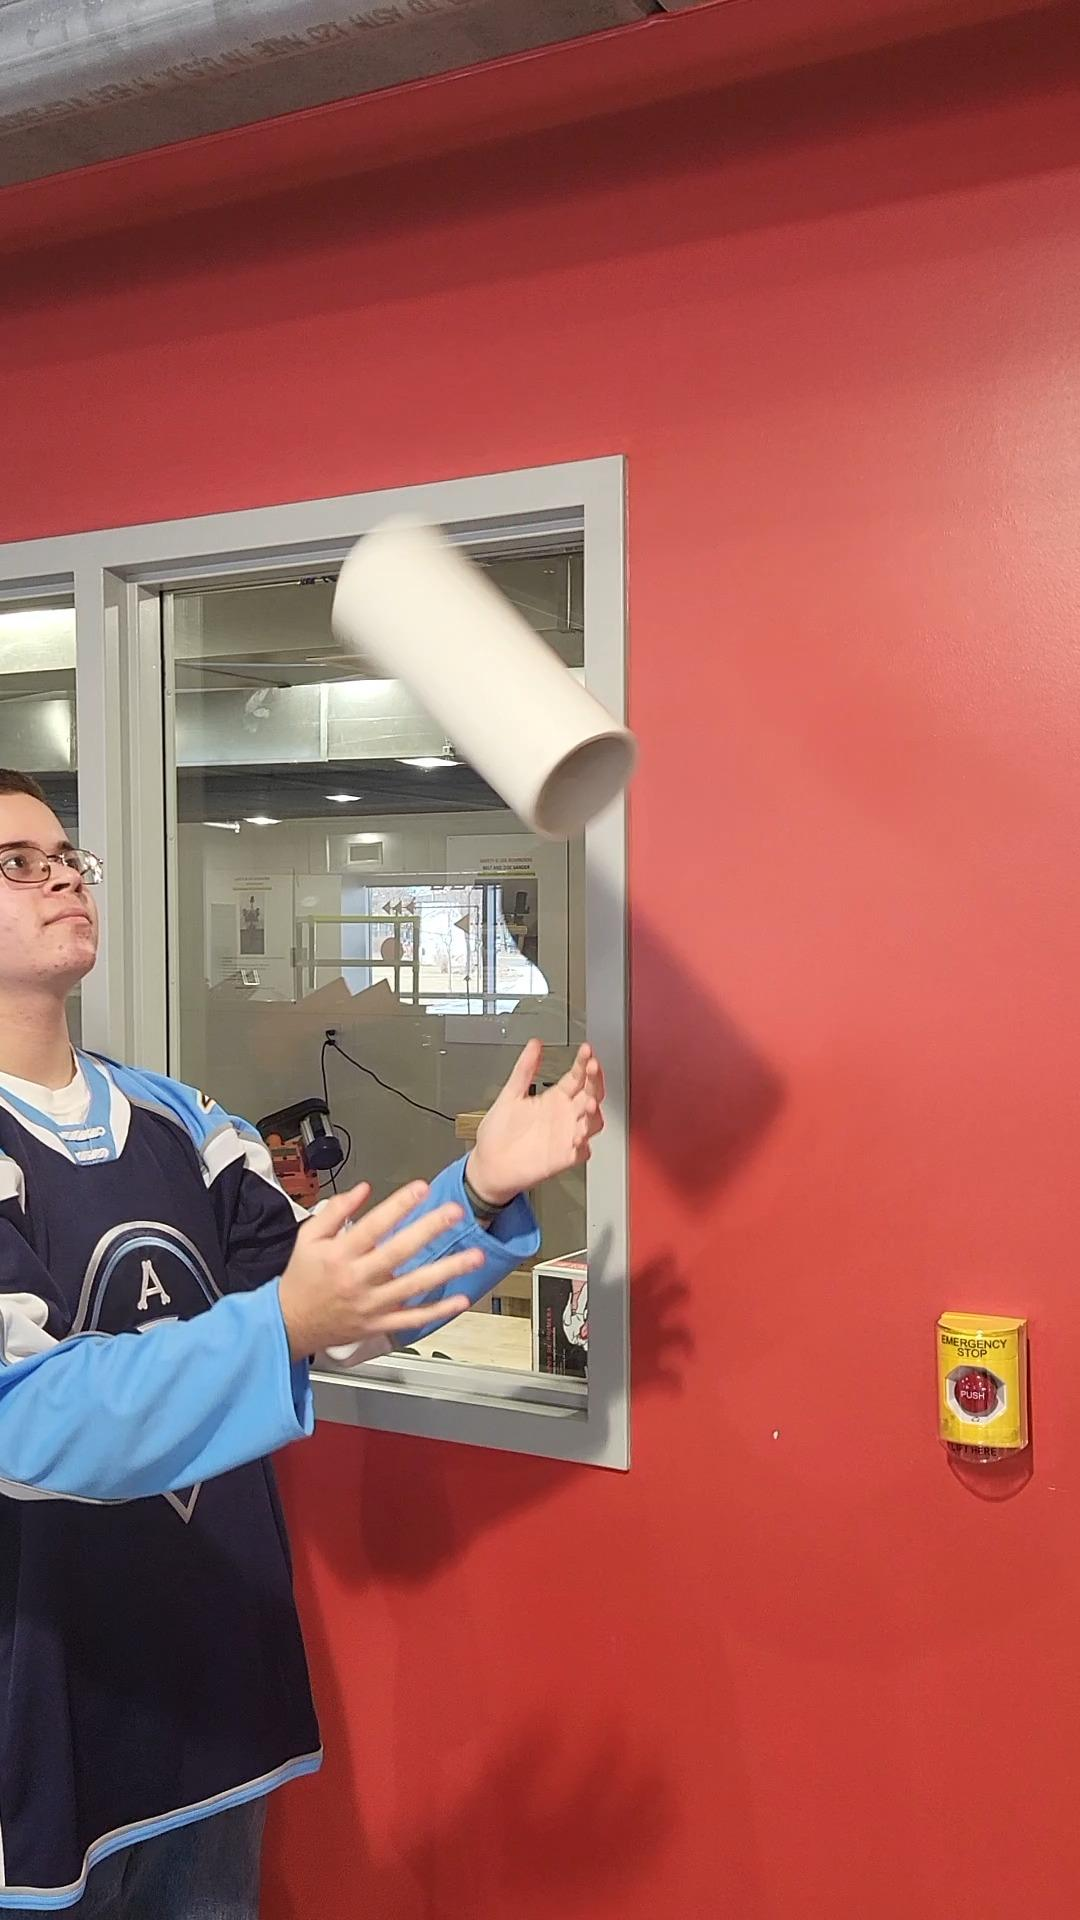coral: (327, 517, 633, 840)
